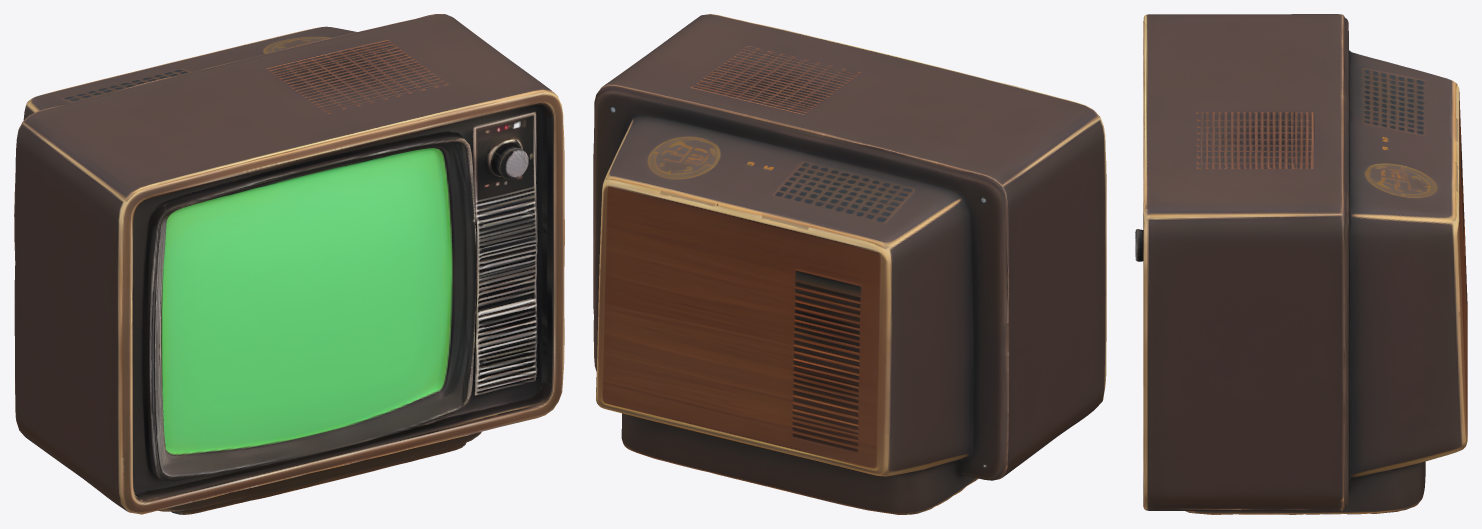
3 views of the same model, side by side, from view 1: azimuth 30°, elevation 25°; view 2: azimuth 150°, elevation 25°; view 3: azimuth 270°, elevation 25° (orthographic). The views are drawn at different scales.
Parts seen in each view (by area): view 1: model; view 2: model; view 3: model.
Part boxes in pixels (x1,y1,x2,y2): model: (14, 14, 564, 514); model: (593, 14, 1106, 514); model: (1135, 14, 1467, 514).
Bounding box in the file's own units: 1.91 × 1.47 × 1.3.
Materials: 1 (1 with a texture image).
